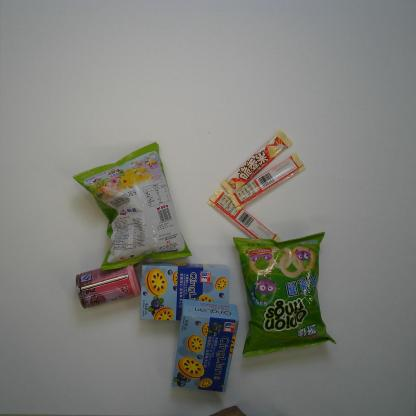Canned Food: (75, 264, 141, 310)
Chocolate: (221, 129, 293, 194), (229, 152, 306, 212), (208, 189, 281, 248)
Dessert: (171, 298, 239, 393), (140, 260, 230, 323)
Puffed Food: (72, 141, 192, 271), (233, 232, 337, 358)
